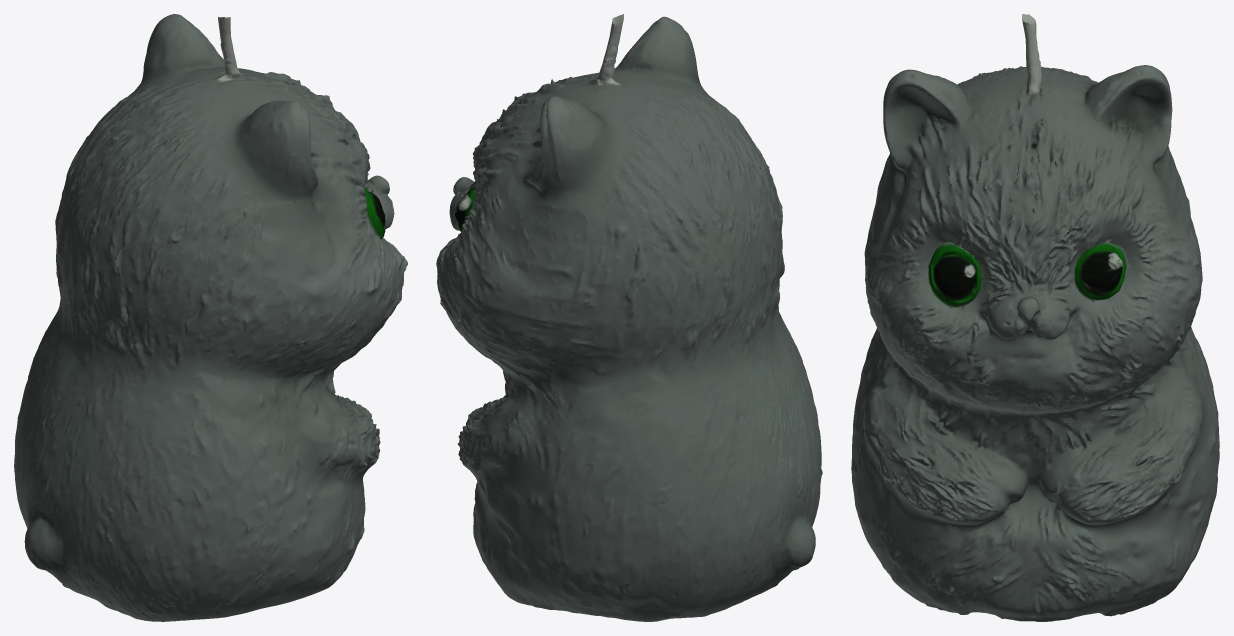
File: gato.glb
The picture shows the model from 3 angles, left to right: view 1: azimuth 30°, elevation 25°; view 2: azimuth 150°, elevation 25°; view 3: azimuth 270°, elevation 25°; orthographic projection. The views are drawn at different scales.
Parts seen in each view (by area): view 1: tripo_node_82cc6d75-5de2-4b43-b7f4-142e4cf7098c; view 2: tripo_node_82cc6d75-5de2-4b43-b7f4-142e4cf7098c; view 3: tripo_node_82cc6d75-5de2-4b43-b7f4-142e4cf7098c.
Boxes of the visible parts, x1,y1,x2,y2 form: tripo_node_82cc6d75-5de2-4b43-b7f4-142e4cf7098c: (14, 14, 407, 621); tripo_node_82cc6d75-5de2-4b43-b7f4-142e4cf7098c: (436, 14, 822, 621); tripo_node_82cc6d75-5de2-4b43-b7f4-142e4cf7098c: (851, 14, 1219, 621).
Size of the model in its own units: 0.6836 by 1 by 0.5918.
1 material, 1 textured.
